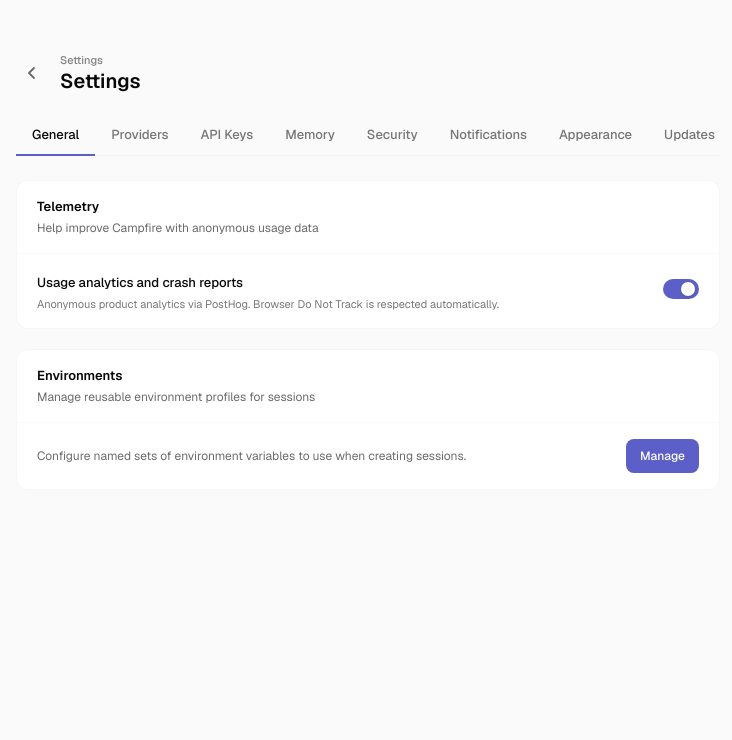
Test: SettingsPage - Memory tab › shows default memory settings (days) when the server has no memory section
This screenshot has width=732, height=740.
Click the tab "Memory" at point(310, 135), box [269, 114, 351, 156]
(page scrolled)
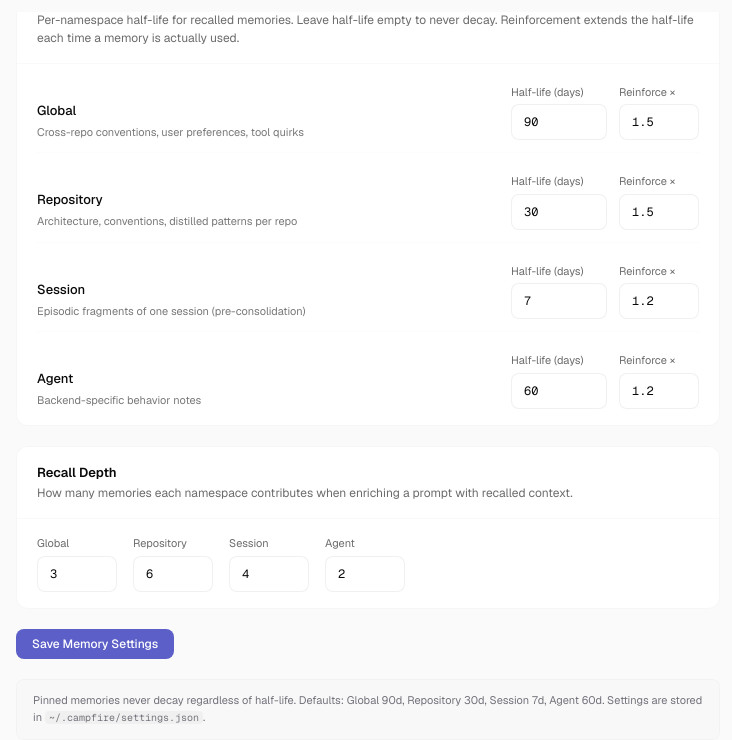
Result: the number field with id "memory-halflife-global" holds "90" at [511, 104, 607, 140]
Result: the number field with id "memory-halflife-repo" holds "30" at [511, 194, 607, 230]
Result: the number field with id "memory-halflife-agent" holds "60" at [511, 372, 607, 408]
